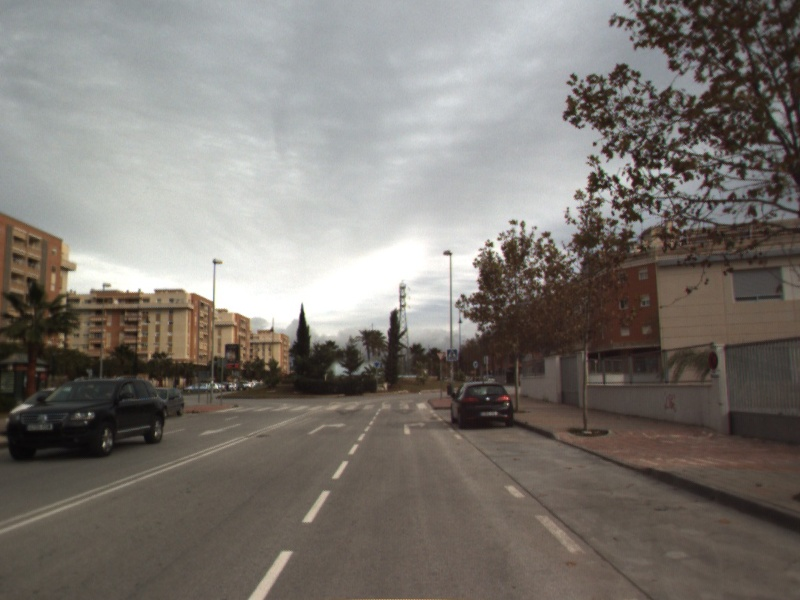RIGHT: (305, 420, 348, 437), (401, 419, 429, 437)
